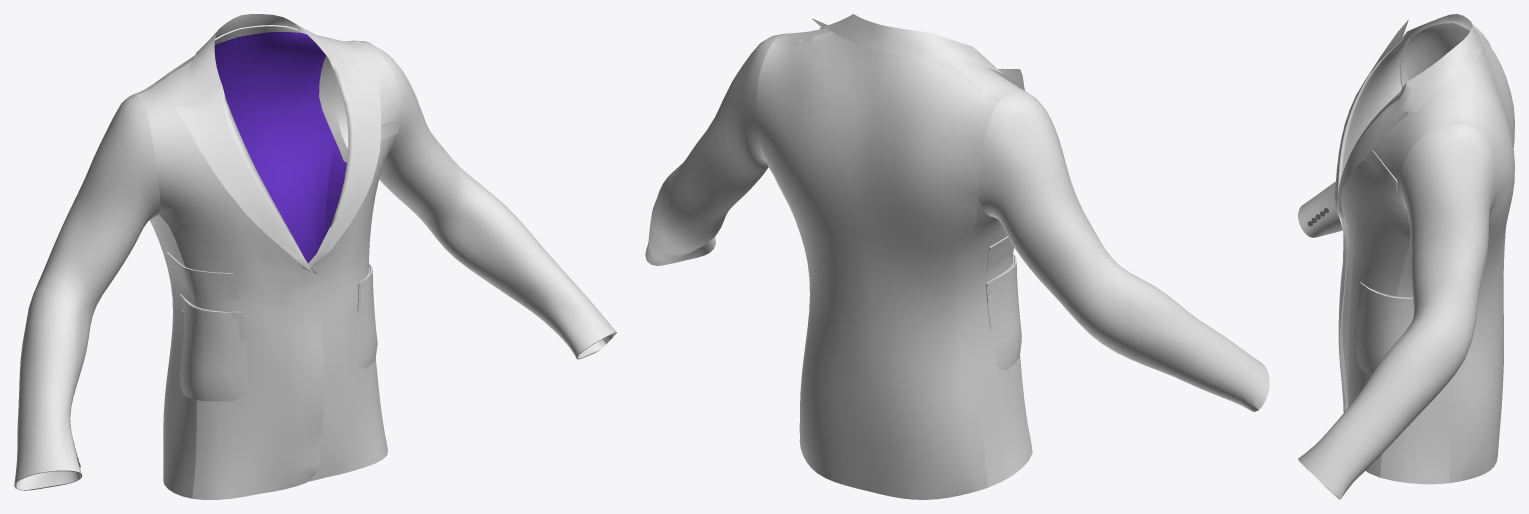
Rendered from Jacket_02_All_Test.fbx.
The picture shows the model from 3 angles, left to right: view 1: azimuth 30°, elevation 25°; view 2: azimuth 150°, elevation 25°; view 3: azimuth 270°, elevation 25°; orthographic projection. The views are drawn at different scales.
Parts seen in each view (by area): view 1: Single-Breasted Peak Lapel 9cm, Functional 3 Buttons, 0V, Patch Pocket, Fixed, Ticket_Pocket; view 2: 0V, Functional 3 Buttons, Fixed, Single-Breasted Peak Lapel 9cm, Patch Pocket; view 3: Functional 3 Buttons, Single-Breasted Peak Lapel 9cm, 0V, Fixed, Patch Pocket.
Boxes of the visible parts, bbox=[...] form: Single-Breasted Peak Lapel 9cm: bbox=[137, 14, 402, 499]; Functional 3 Buttons: bbox=[14, 40, 616, 490]; 0V: bbox=[134, 25, 356, 473]; Patch Pocket: bbox=[179, 264, 377, 401]; Fixed: bbox=[149, 111, 400, 498]; Ticket_Pocket: bbox=[166, 252, 240, 299]; 0V: bbox=[756, 31, 1001, 499]; Functional 3 Buttons: bbox=[645, 34, 1269, 411]; Fixed: bbox=[758, 142, 1032, 486]; Single-Breasted Peak Lapel 9cm: bbox=[773, 14, 1032, 449]; Patch Pocket: bbox=[987, 252, 1021, 370]; Functional 3 Buttons: bbox=[1298, 23, 1497, 499]; Single-Breasted Peak Lapel 9cm: bbox=[1334, 14, 1481, 477]; 0V: bbox=[1449, 22, 1514, 483]; Fixed: bbox=[1364, 150, 1495, 484]; Patch Pocket: bbox=[1356, 282, 1413, 375].
Bounding box in the file's own units: 101 × 70.89 × 33.02.
